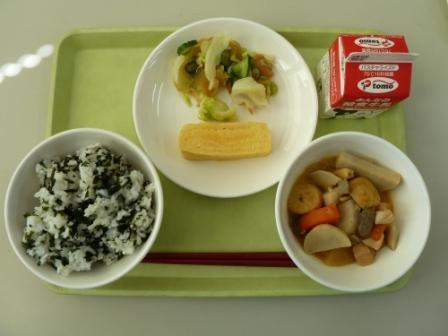Bread: (166, 113, 283, 166)
Milk: (310, 26, 428, 138)
Rice: (8, 137, 168, 282)
Salad: (167, 33, 276, 118)
vegetable soup: (281, 143, 424, 276)
